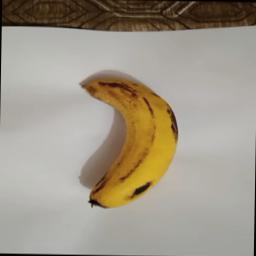Banana Unripe: (74, 66, 182, 214)
